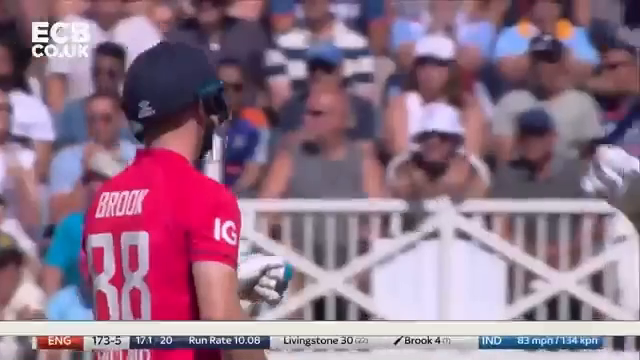batsman: (85, 38, 294, 325)
